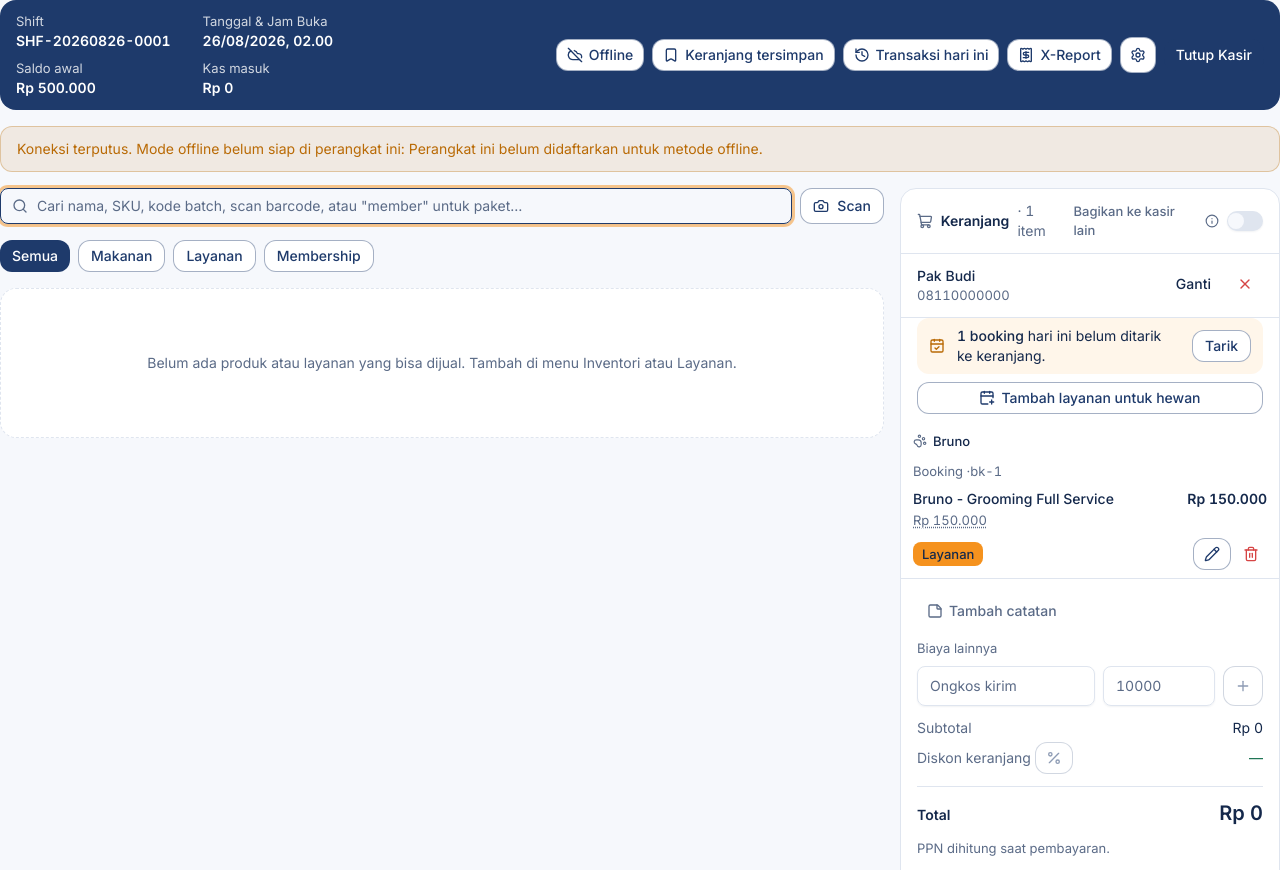
Test: PosScreen — changing who the basket is for › asks before throwing the cashier's work away
Expected: the text "Bruno - Grooming Full Service" is shown, [913,489,1114,509]
Click the button "Ganti" at (1193, 284), box [1164,268,1223,300]
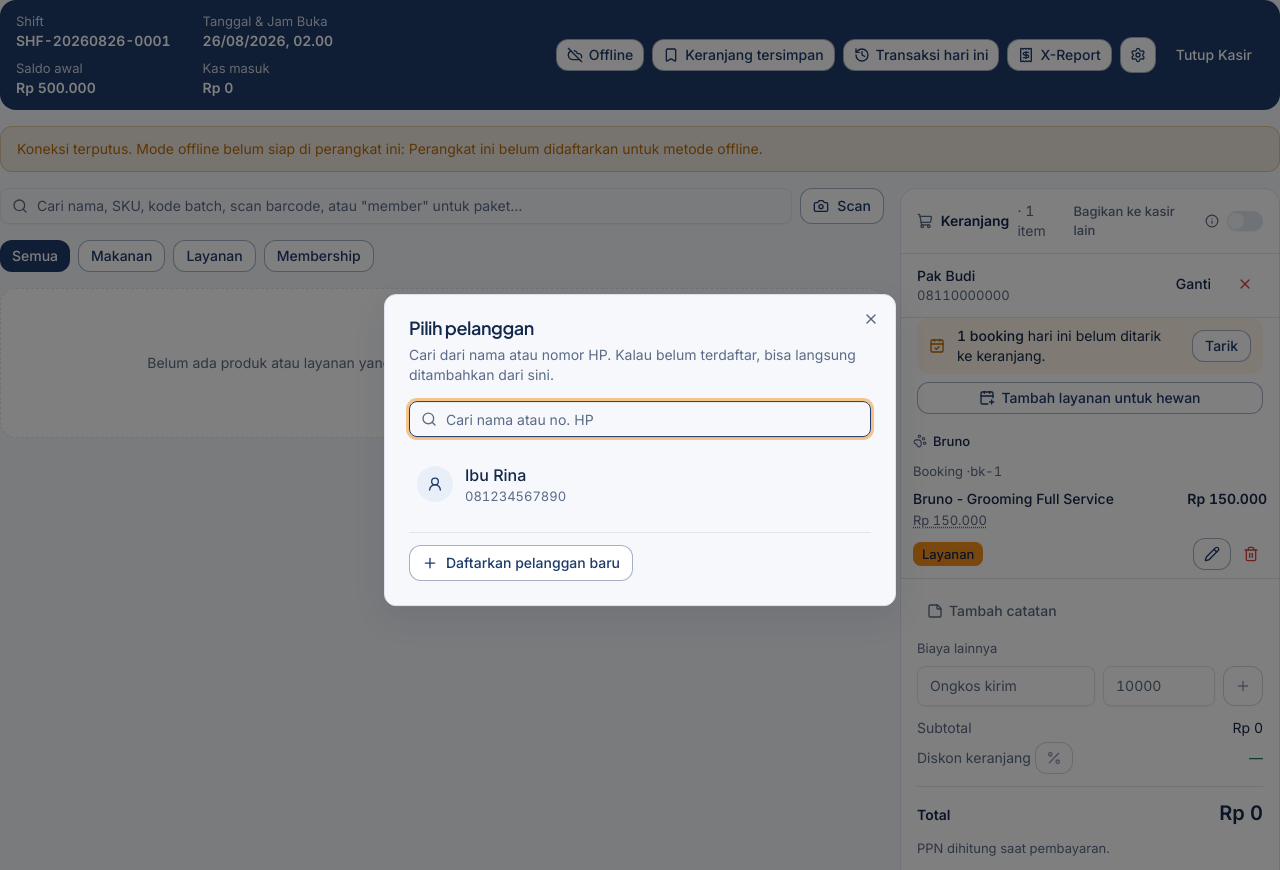
Click the text "Ibu Rina" at (496, 475), box [465,465,526,485]
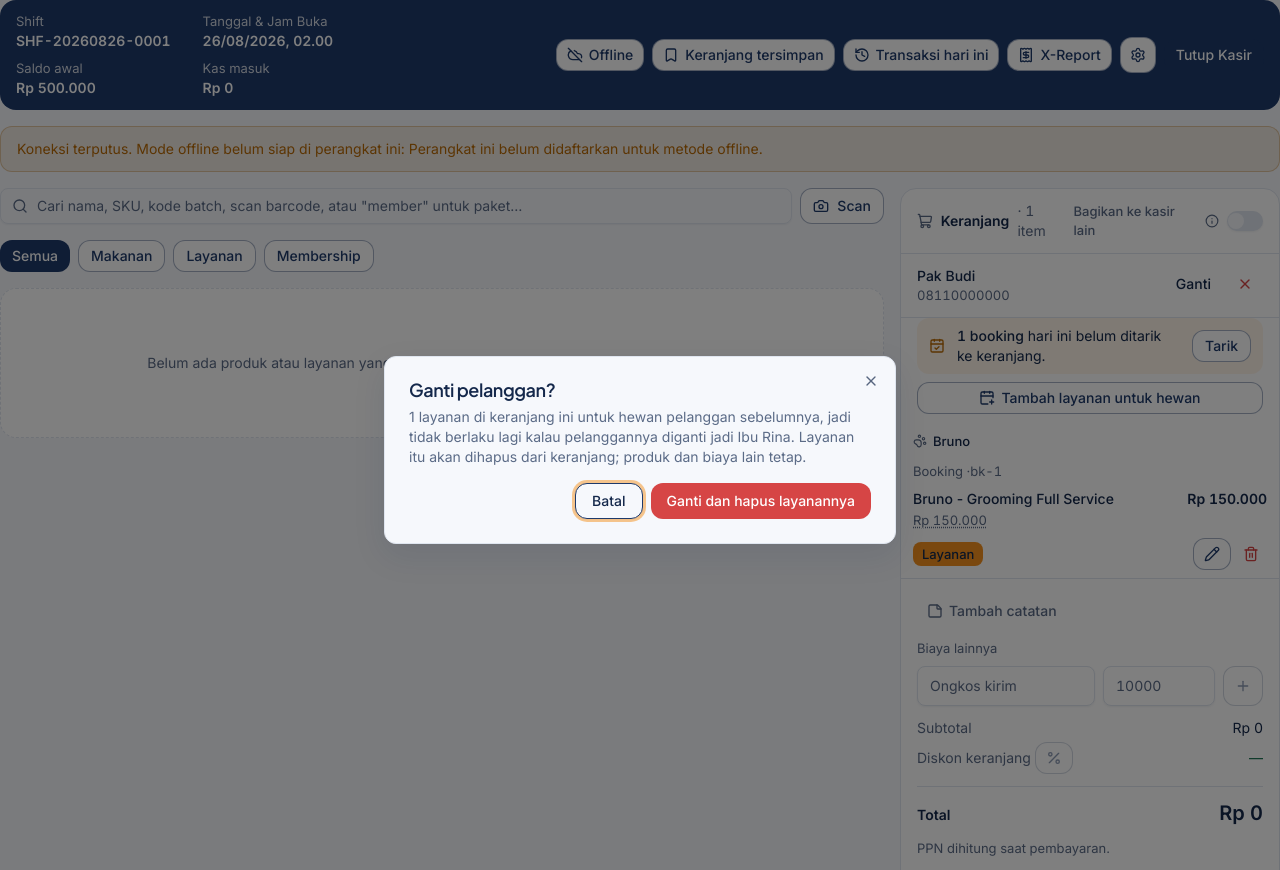
Expected: the heading "Ganti pelanggan?" is shown, [409,378,555,401]
